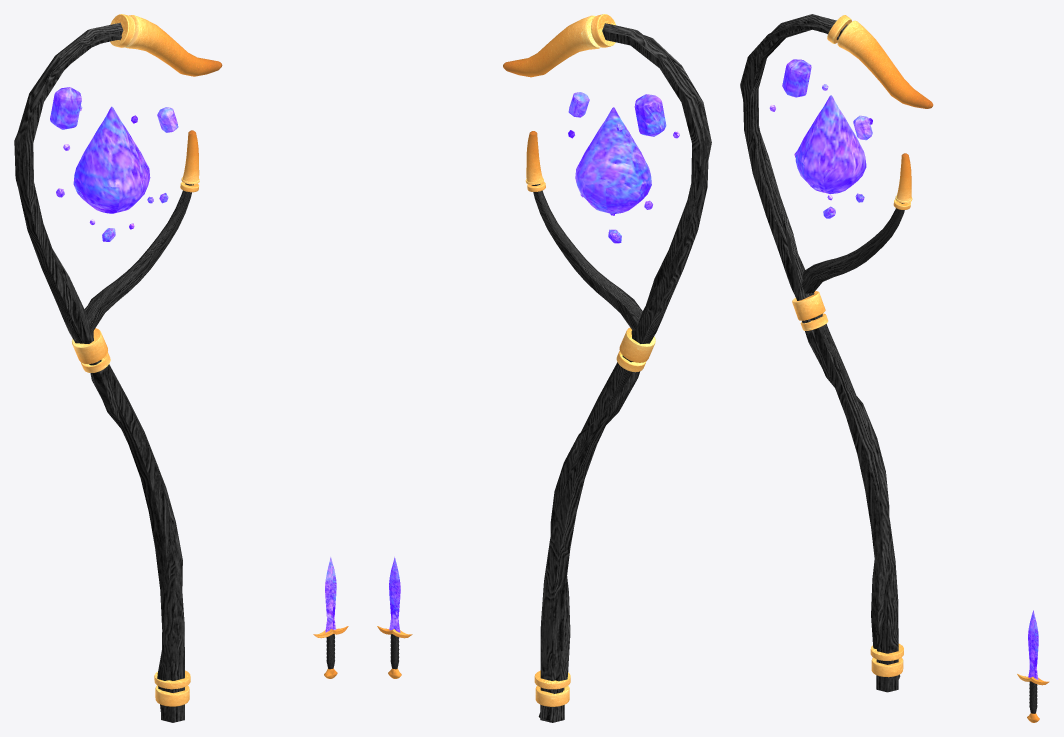
Rendered from fantasy_final.glb.
The picture shows the model from 3 angles, left to right: view 1: azimuth 30°, elevation 25°; view 2: azimuth 150°, elevation 25°; view 3: azimuth 330°, elevation 25°; orthographic projection. The views are drawn at different scales.
Visible parts, largest first — view 1: main_staff, main_crystal, small_staff, branch, staff_tip, med_crystal, mid_binding1, branch_tip, athame_blade, bottom_binding1; view 2: main_staff, main_crystal, small_staff, branch, staff_tip, med_crystal, mid_binding1, branch_tip, athame_blade; view 3: main_staff, small_staff, main_crystal, staff_tip, branch, med_crystal, mid_binding1, branch_tip, athame_blade.
Part boxes in pixels (x1,y1,x2,y2): main_staff: (17,22,184,722); main_crystal: (73,106,150,213); small_staff: (14,33,182,711); branch: (84,183,193,332); staff_tip: (125,15,222,76); med_crystal: (50,87,81,129); mid_binding1: (72,328,107,364); branch_tip: (181,130,199,184); athame_blade: (325,557,336,632); bottom_binding1: (155,685,189,706); main_staff: (540,23,708,722); main_crystal: (575,107,651,214); small_staff: (538,35,711,721); branch: (531,184,642,330); staff_tip: (503,15,600,77); med_crystal: (634,94,666,136); mid_binding1: (619,327,655,362); branch_tip: (525,131,543,184); athame_blade: (389,557,400,632); main_staff: (742,14,898,692); small_staff: (740,22,900,679); main_crystal: (795,95,866,194); staff_tip: (837,20,933,108); branch: (801,202,904,293); med_crystal: (782,59,811,97); mid_binding1: (792,291,825,320); branch_tip: (895,153,912,203); athame_blade: (1028,610,1038,679).
Size of the model in its own units: 104 by 212 by 19.96.
Materials: 3 (3 with a texture image).
